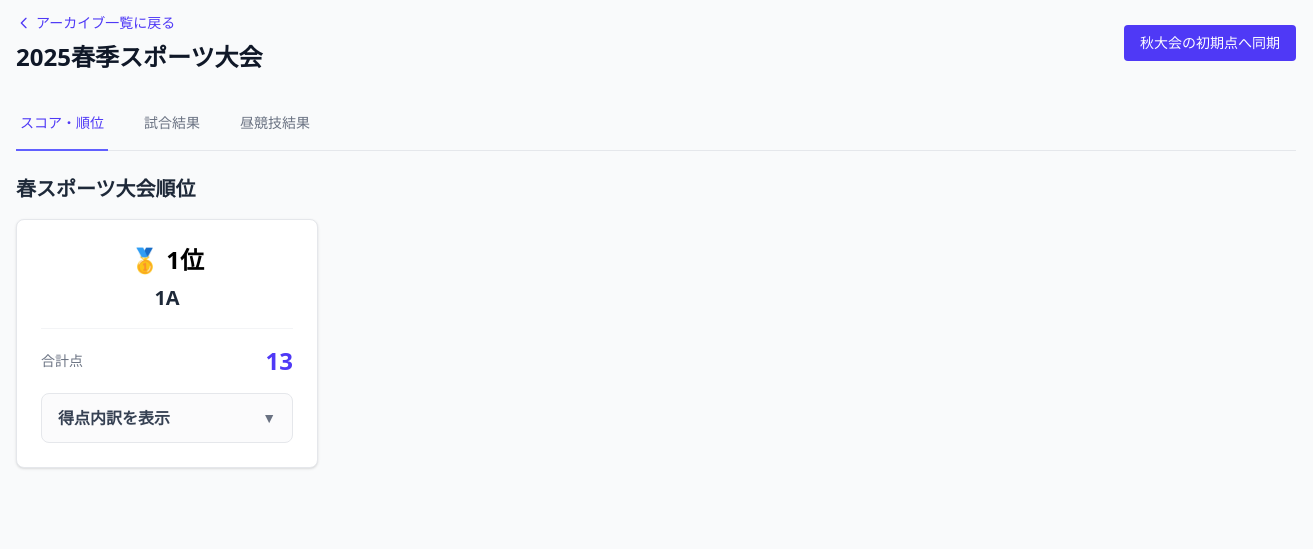
Test case: Archive Event Detail Page › 昼競技結果タブで昼競技の順位結果を表示できること
The width and height of the screenshot is (1313, 549).
Click the button "昼競技結果": coordinates (275, 124) [236,97,314,151]
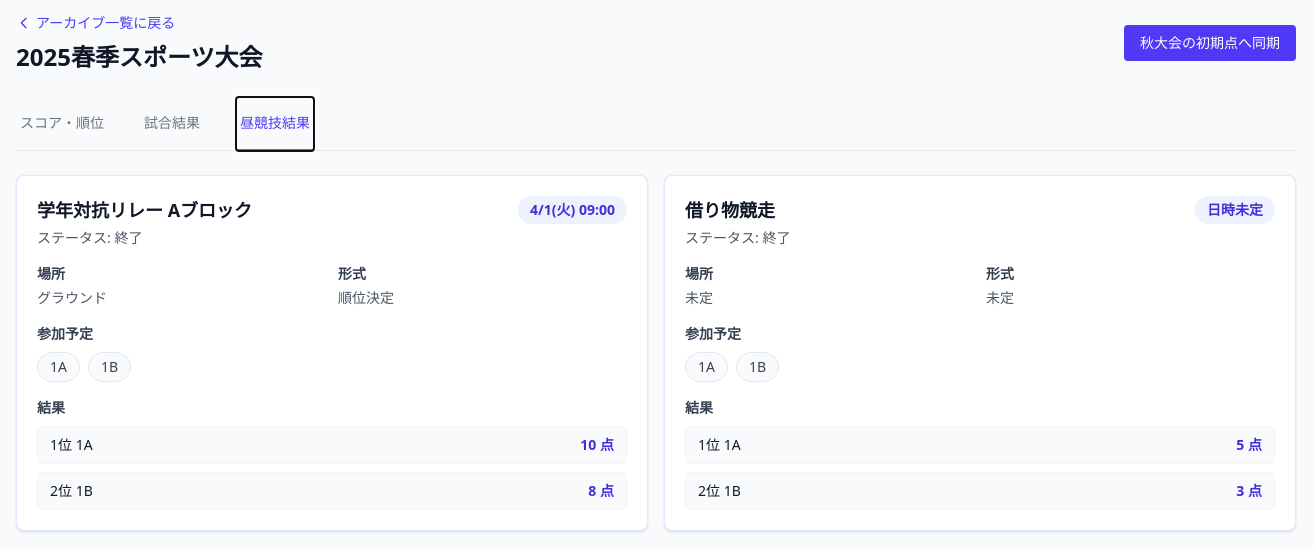
Expected: the heading "学年対抗リレー Aブロック" is shown, [37,196,252,224]
Expected: the heading "借り物競走" is shown, [685,196,790,224]
Expected: the text "ステータス: 終了" below "学年対抗リレー Aブロック" is shown, [37,228,142,247]
